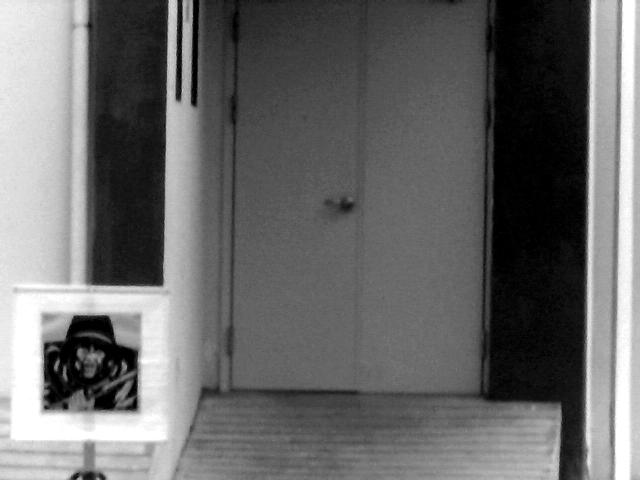bia: (42, 312, 141, 412)
